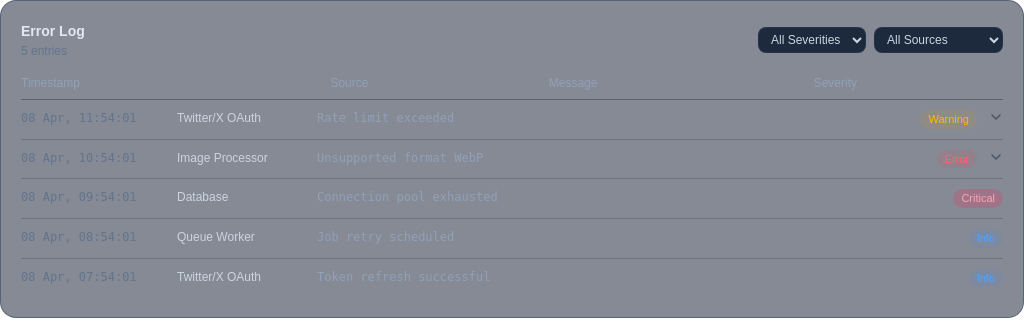
Test case: ErrorLog › filters by source
The image size is (1024, 335).
Select "Twitter/X OAuth" in the dropdown named "Filter by source" at x=938, y=40, box [874,27,1003,53]
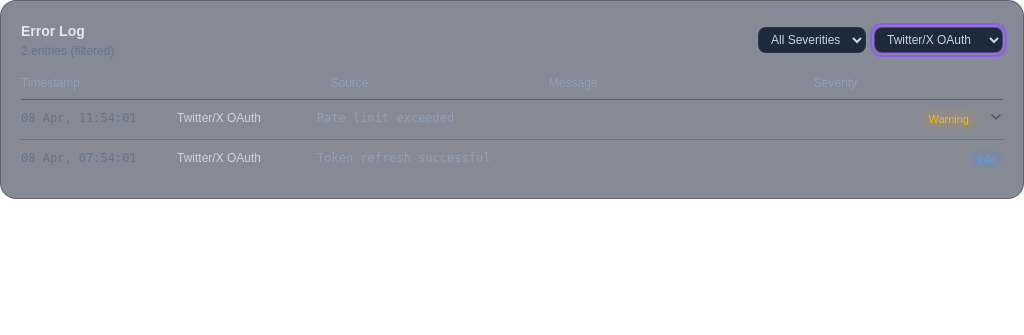
Expected: the text "Rate limit exceeded" is shown, [317,111,454,125]
Now the button "Unsupported format WebP" is gone
Now the button "Connection pool exhausted" is gone
